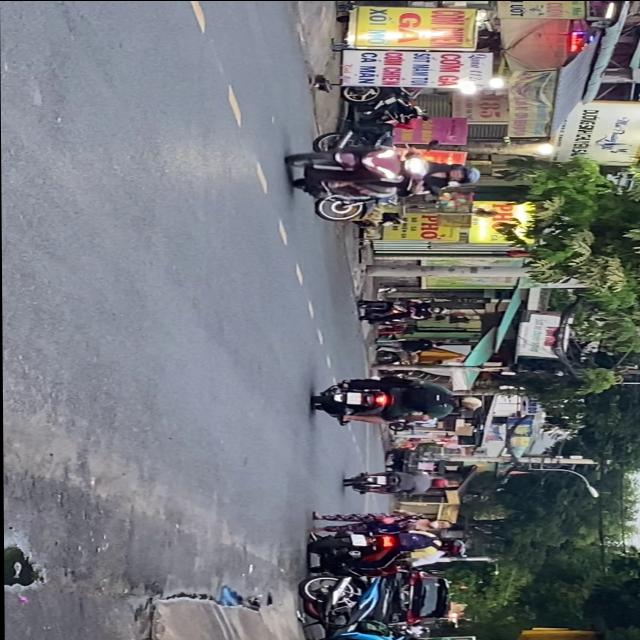helmet: (447, 164, 482, 182), (455, 393, 483, 408), (439, 536, 466, 550), (441, 546, 467, 556)
licenseplate: (283, 143, 484, 205), (311, 376, 483, 424), (306, 526, 468, 572)
nohelmet: (352, 532, 366, 544), (347, 392, 361, 404)
